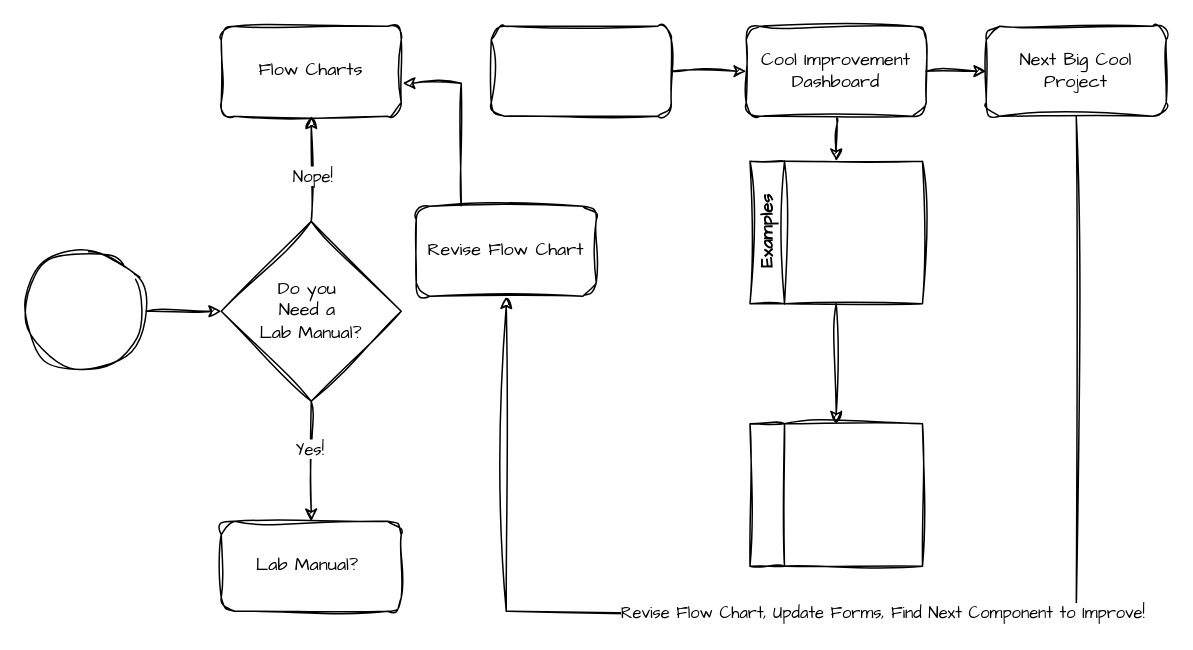
This 1193x650 diagram has some shape labels left out. Each missing label, with the centre of its shape:
Decision: Which Component to Improve?: the point at 580,70
Start: the point at 85,310
Templates: the point at 835,494
